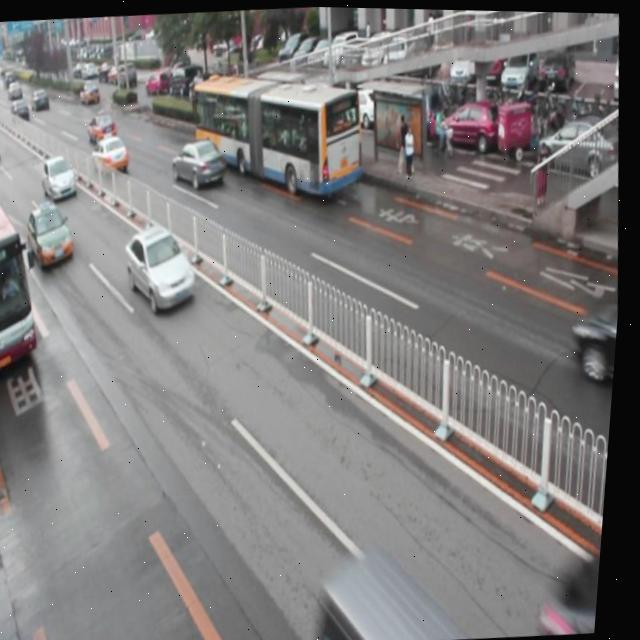car: (123, 219, 203, 314), (546, 558, 608, 633), (170, 137, 229, 193), (28, 202, 77, 268), (90, 129, 134, 175), (42, 152, 80, 201), (87, 108, 118, 144)
truck: (322, 537, 499, 640)
van: (186, 63, 368, 205), (0, 176, 53, 384)
